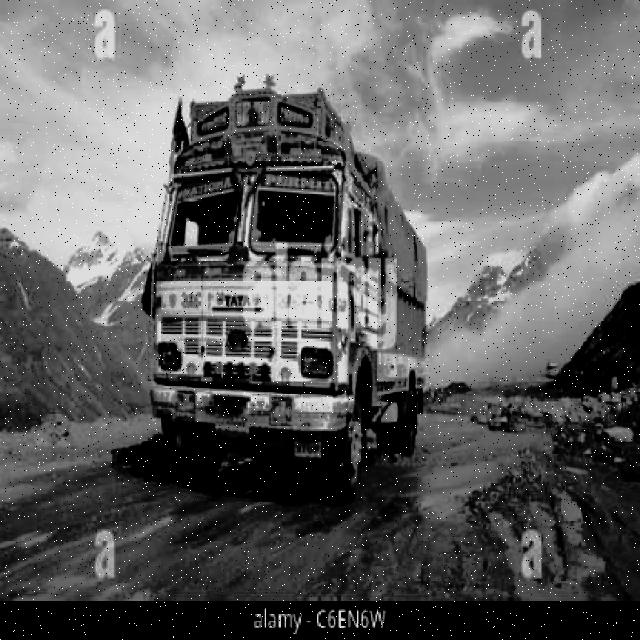HCV: (163, 55, 426, 473)
